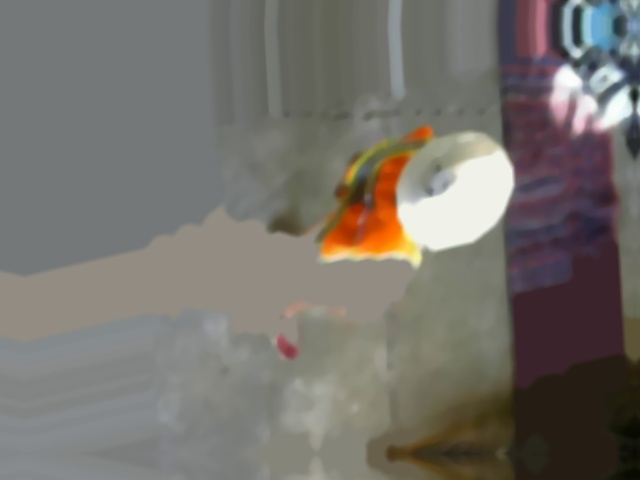two: (420, 163, 457, 216)
